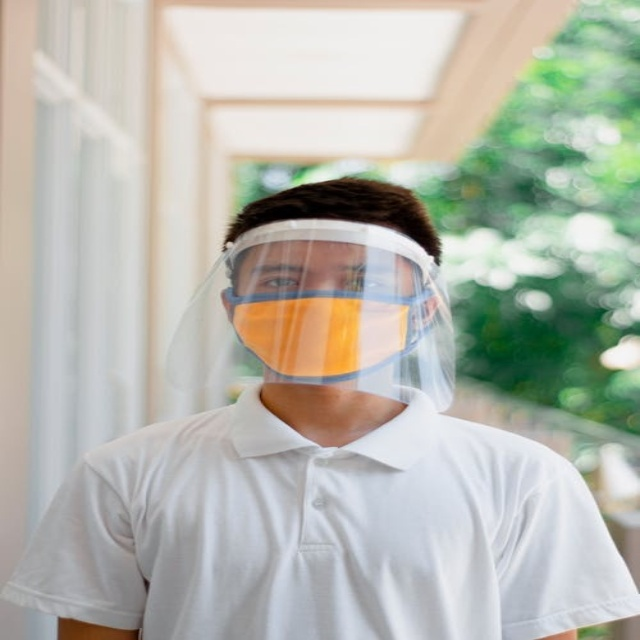Mascara: (228, 293, 420, 380)
Sin_gafas: (242, 258, 396, 294)
